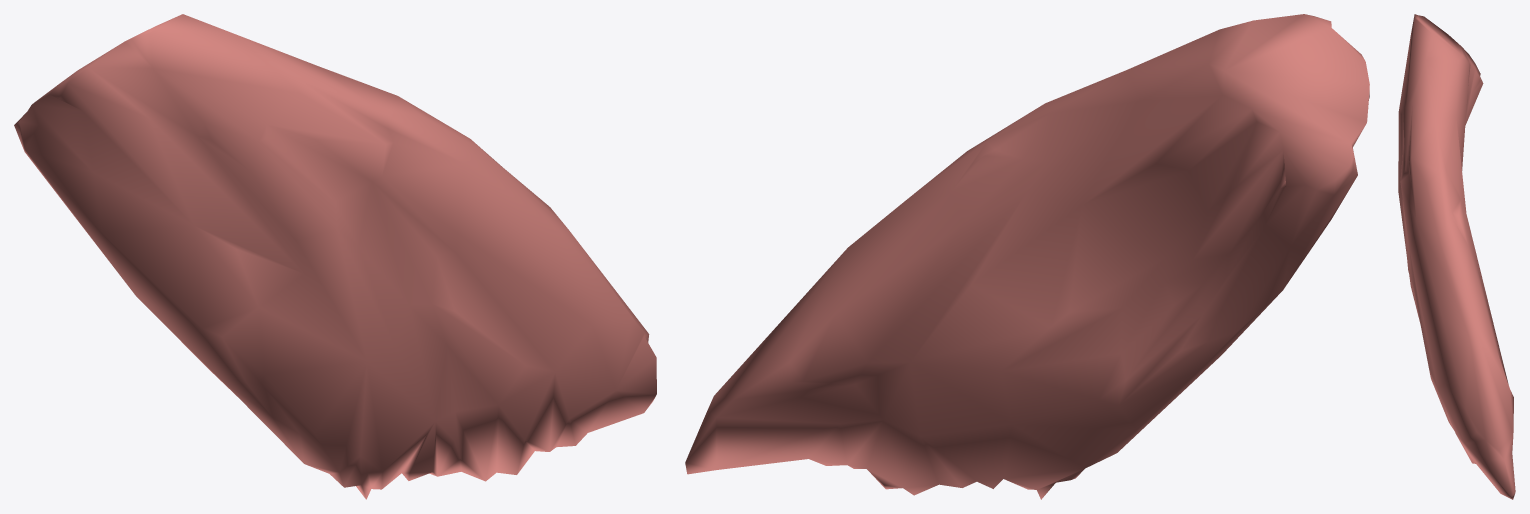
The picture shows the model from 3 angles, left to right: view 1: azimuth 30°, elevation 25°; view 2: azimuth 150°, elevation 25°; view 3: azimuth 270°, elevation 25°; orthographic projection. The views are drawn at different scales.
Visible parts, largest first — view 1: ZA_8a75f8a243b42d0b; view 2: ZA_8a75f8a243b42d0b; view 3: ZA_8a75f8a243b42d0b.
Boxes of the visible parts, left/top/right/bottom form: ZA_8a75f8a243b42d0b: left=14, top=14, right=656, bottom=499; ZA_8a75f8a243b42d0b: left=685, top=14, right=1369, bottom=499; ZA_8a75f8a243b42d0b: left=1398, top=14, right=1515, bottom=499.
Bounding box in the file's own units: 0.025 × 0.0204 × 0.00669.
